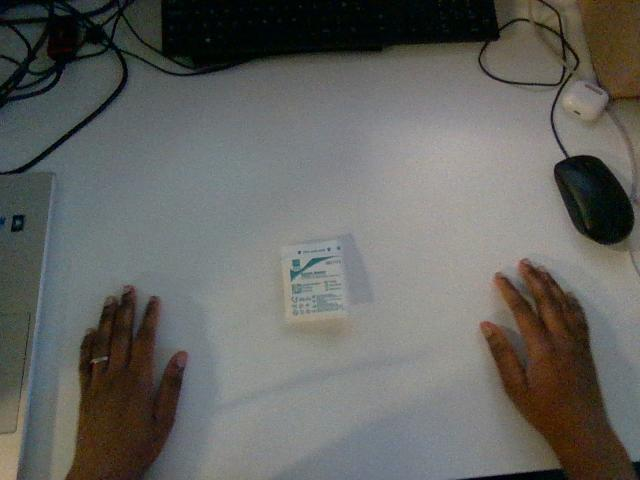gauze: (282, 240, 346, 322)
